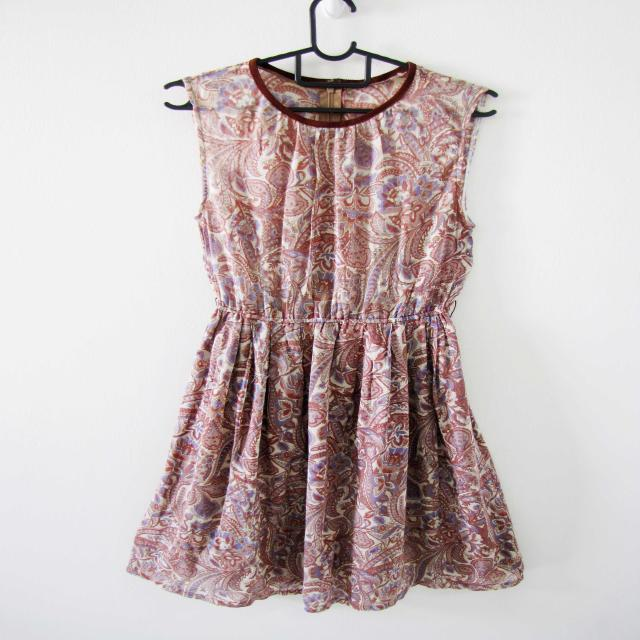Dress: (138, 58, 531, 599)
